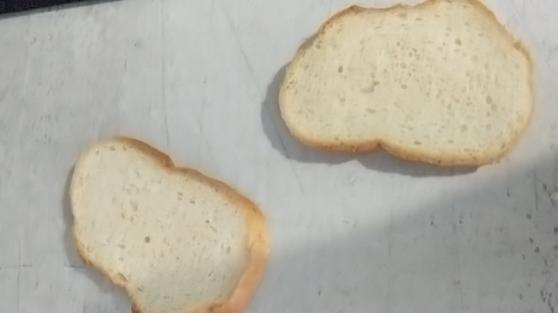white_bread: (274, 1, 539, 167), (64, 134, 269, 313)
